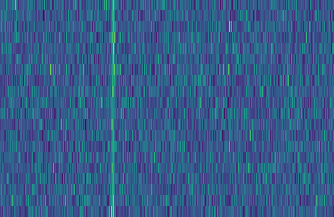signal: (106, 0, 116, 217)
